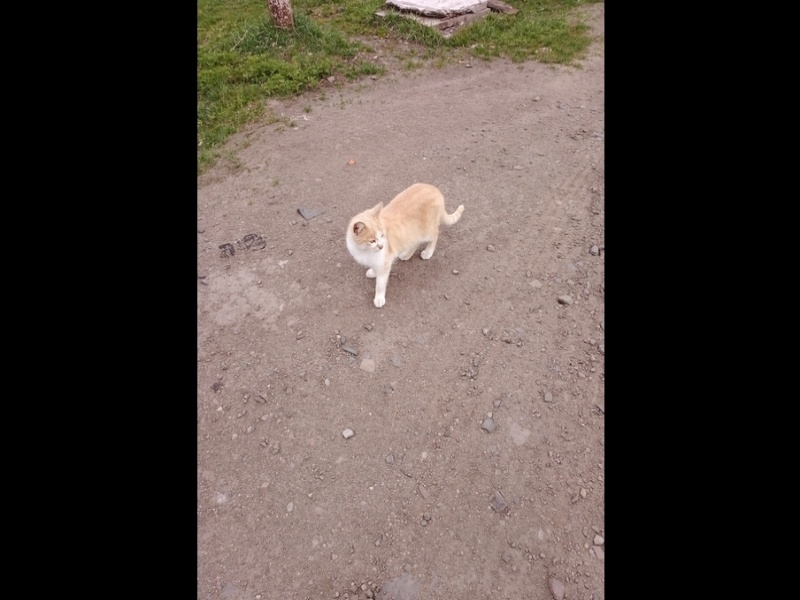cat: (343, 176, 467, 312)
